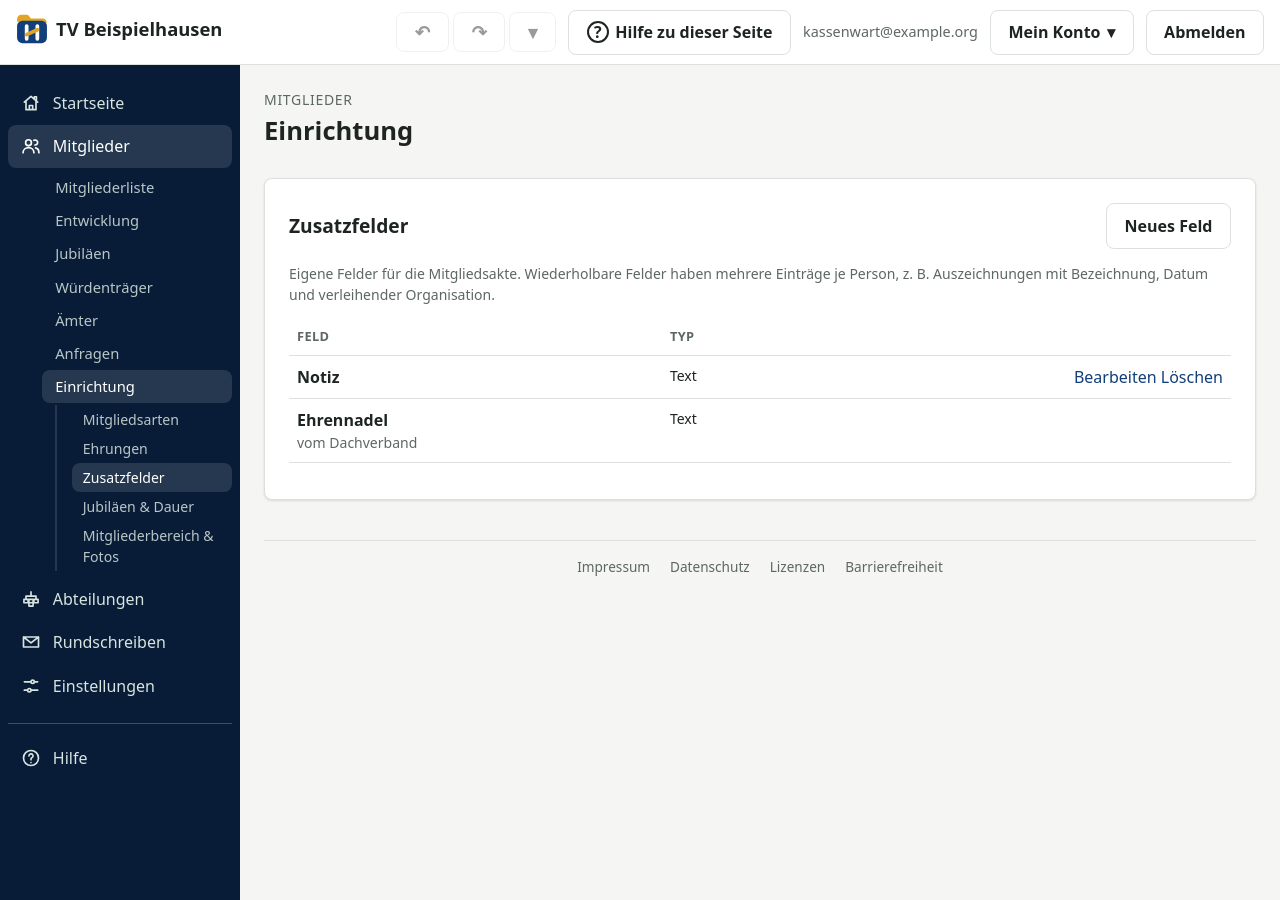
Test case: Zusatzfelder löschen › löscht ein benutztes Feld erst nach Bestätigung samt Werten
This screenshot has width=1280, height=900.
What coordinates should you click on to do the following:
click the button with aria-label "Notiz löschen"
I would click on:
 (1192, 377)
Its box is [1161,365,1223,389].
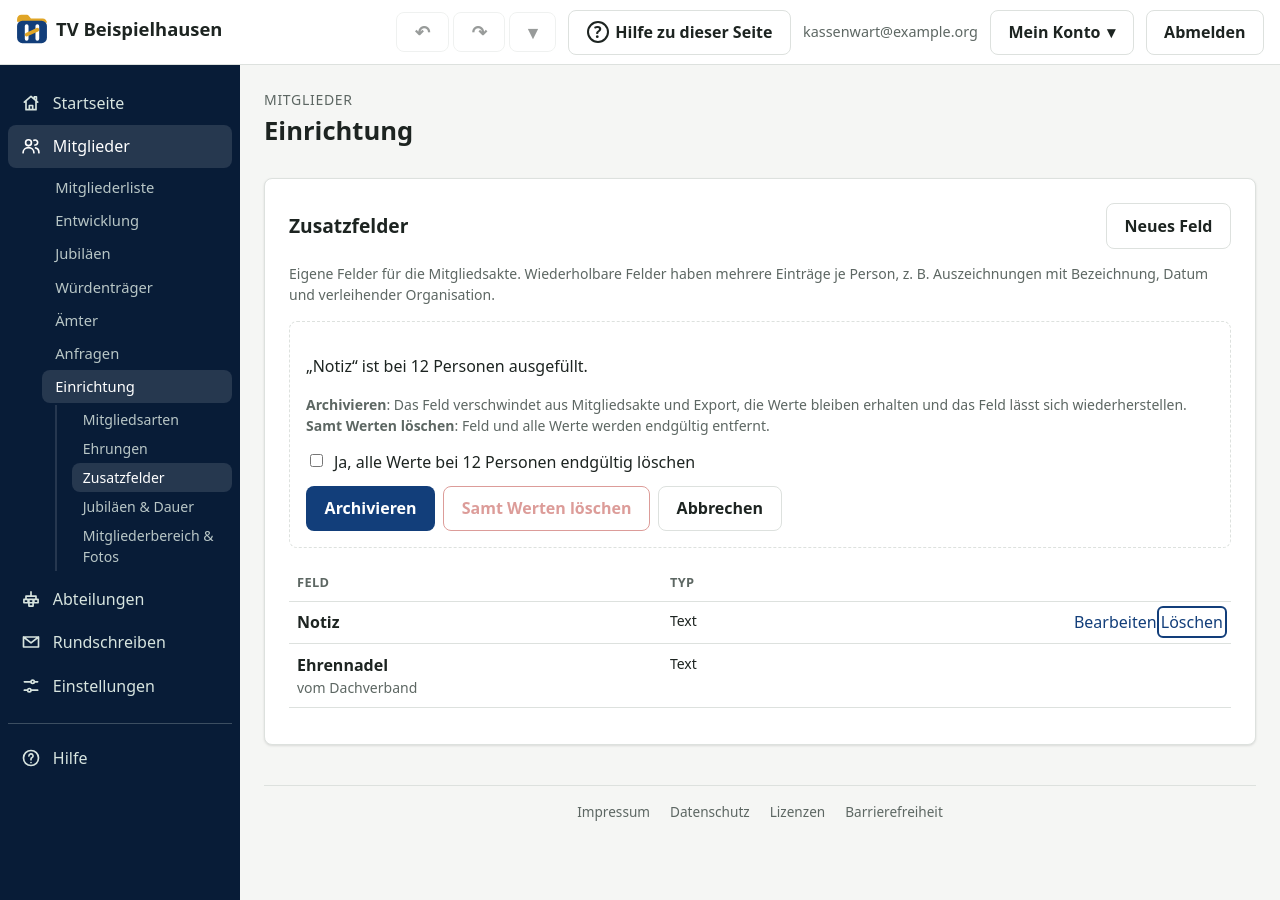
Now the text "„Notiz“ ist bei 12 Personen ausgefüllt." is shown, box [306,354,588,376]
Now the button "Samt Werten löschen" is disabled, box [443,486,650,531]
What coordinates should you click on to do the following:
click the checkbox labelled "Ja, alle Werte bei 12 Personen endgültig löschen"
I would click on:
 (316, 461)
Its box is [310,454,323,467].
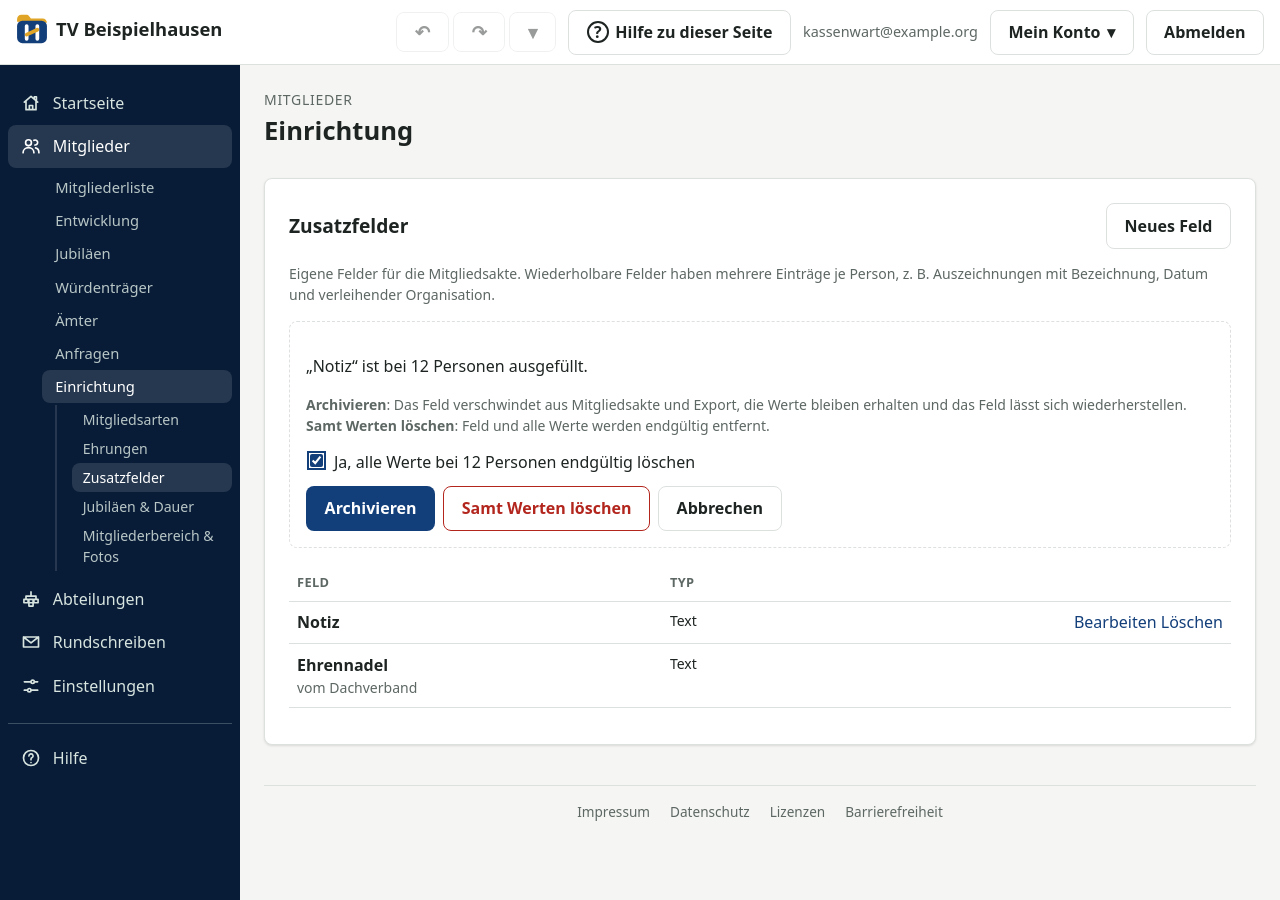
What coordinates should you click on to do the following:
click the button "Samt Werten löschen"
I would click on:
 (547, 508)
Its box is [443,486,650,531].
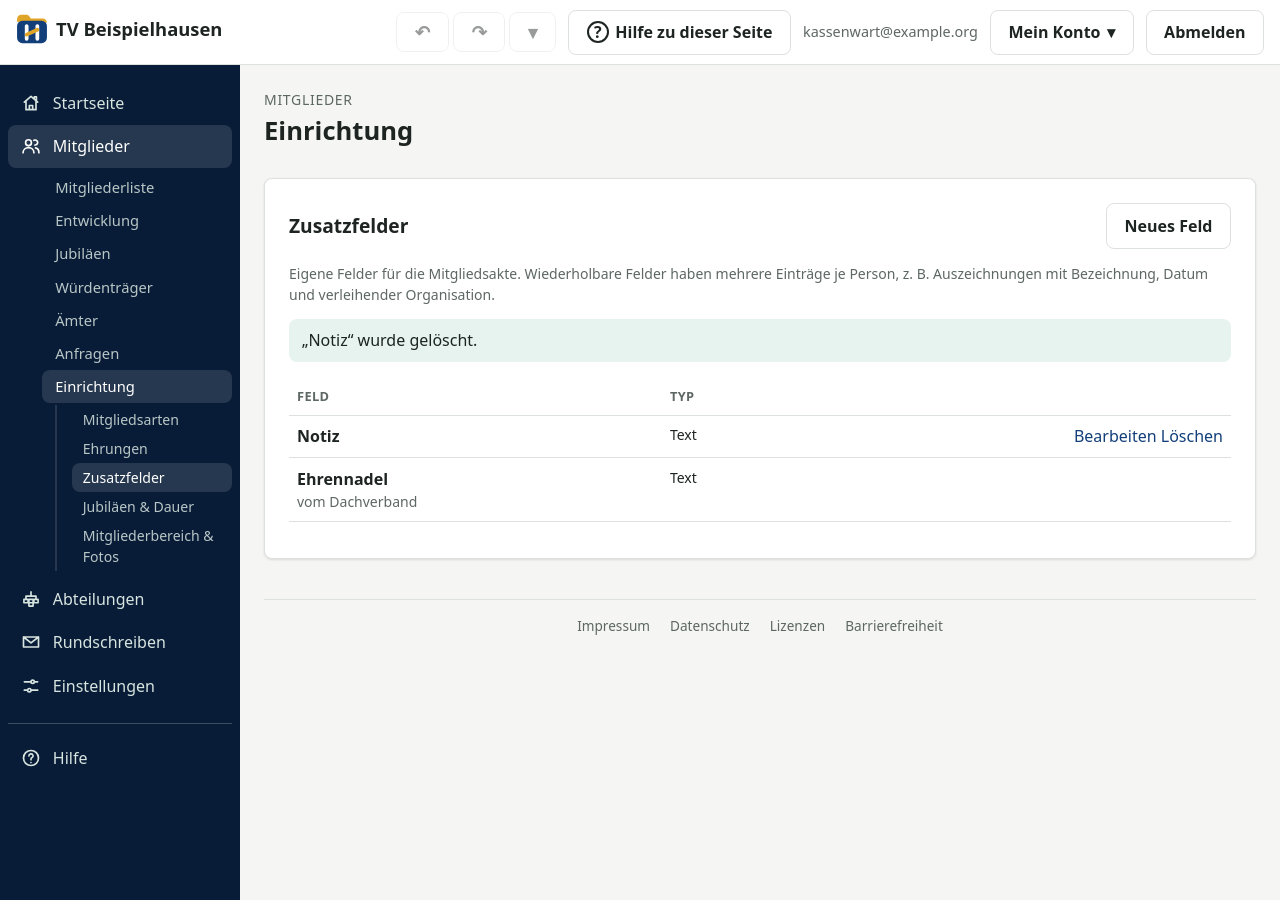
Now the text "„Notiz“ wurde gelöscht." is shown, box [289,318,1231,362]
